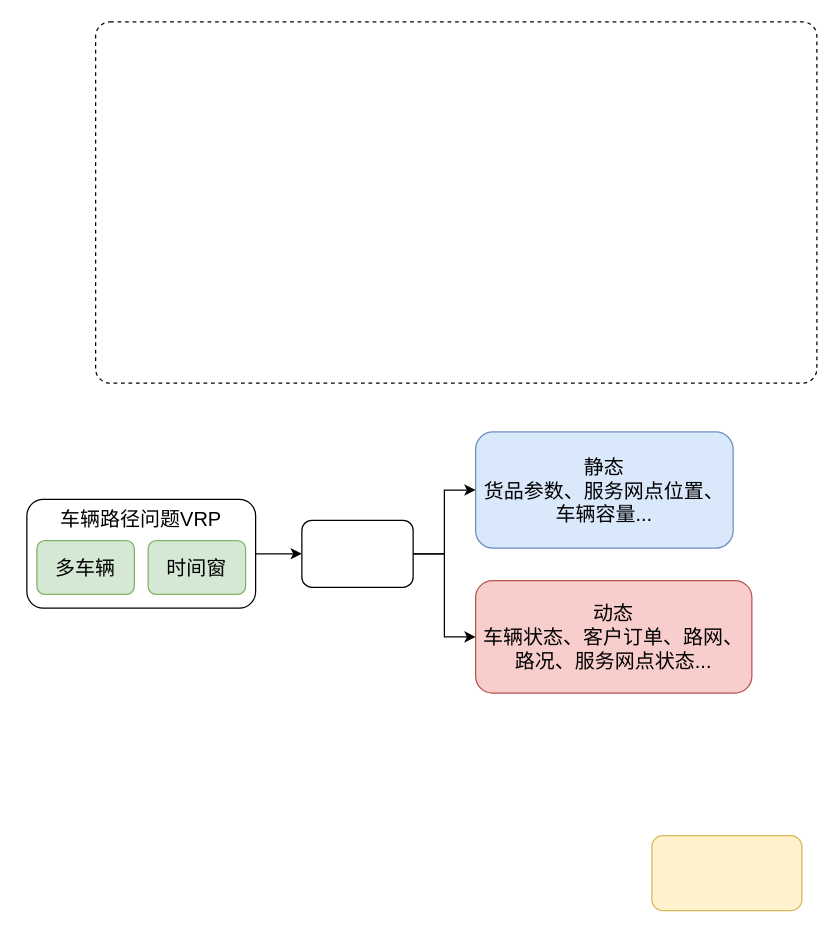
The diagram is 839 pixels wide and 933 high, and some of its shapes have lost their labels. Here are the shapes that lost their labels. From the top down, the centre of each, then its label:
At [455,202]: "双向物流动态调度优化技术".
At [357,553]: "资源划分".
At [726,872]: "智能装箱".
